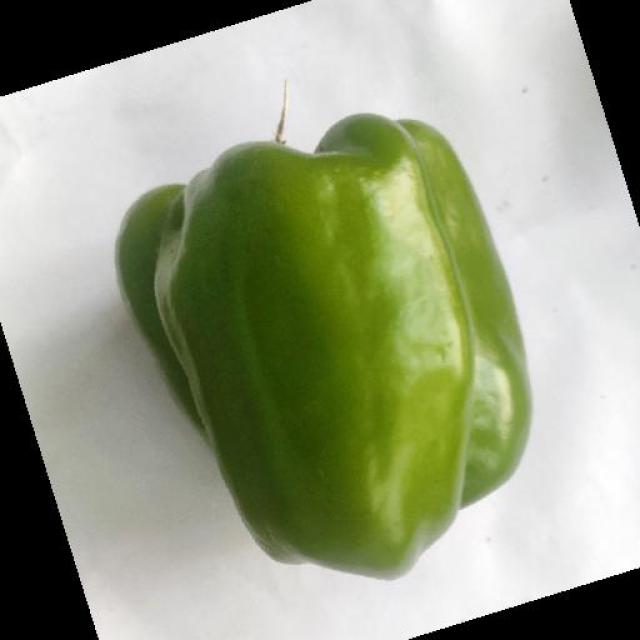Fresh_Capsicum: (59, 125, 567, 531)
